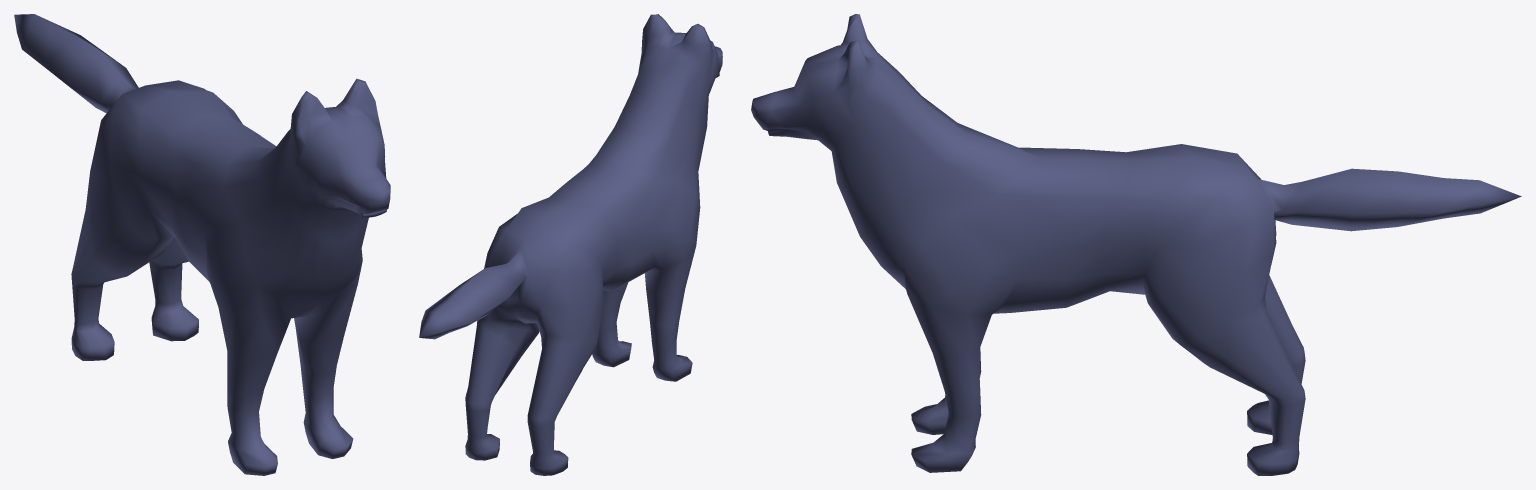
Rendered from goblin.fbx.
The picture shows the model from 3 angles, left to right: view 1: azimuth 30°, elevation 25°; view 2: azimuth 150°, elevation 25°; view 3: azimuth 270°, elevation 25°; orthographic projection. The views are drawn at different scales.
Visible parts, largest first — view 1: Box02; view 2: Box02; view 3: Box02.
Boxes of the visible parts, x1=… form: Box02: x1=14, y1=14, x2=390, y2=475; Box02: x1=419, y1=14, x2=722, y2=475; Box02: x1=751, y1=14, x2=1521, y2=475.
Bounding box in the file's own units: 50.85 × 249 × 150.
